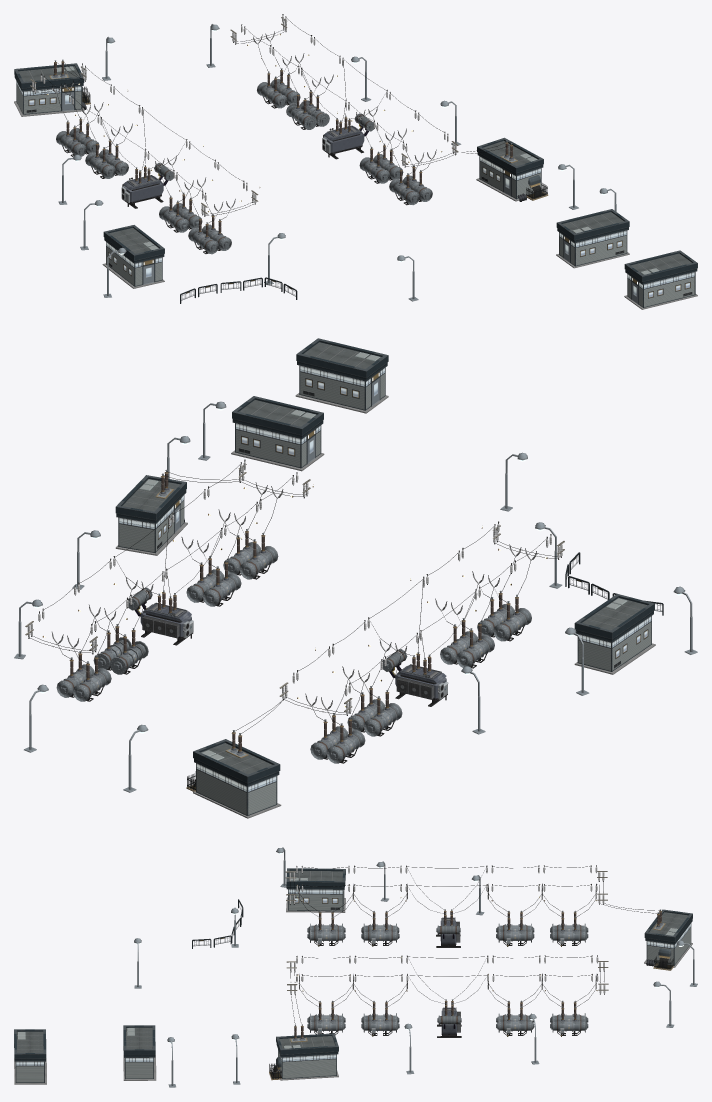
File: t1_b_substation.glb
3 views of the same model, one above another, from view 1: azimuth 30°, elevation 25°; view 2: azimuth 150°, elevation 25°; view 3: azimuth 270°, elevation 25° (orthographic). The views are drawn at different scales.
Visible parts, largest first — view 1: nomerge_substation_mesh, um_t1_b_substation_model_t1_b_substation_modelShape, nomerge_substation_mesh1; view 2: nomerge_substation_mesh, um_t1_b_substation_model_t1_b_substation_modelShape, nomerge_substation_mesh1; view 3: nomerge_substation_mesh, um_t1_b_substation_model_t1_b_substation_modelShape, nomerge_substation_mesh1.
Part boxes in pixels (left/top/right/bottom): nomerge_substation_mesh: left=14, top=34, right=697, bottom=309; um_t1_b_substation_model_t1_b_substation_modelShape: left=30, top=14, right=510, bottom=254; nomerge_substation_mesh1: left=102, top=24, right=616, bottom=301; nomerge_substation_mesh: left=42, top=338, right=663, bottom=818; um_t1_b_substation_model_t1_b_substation_modelShape: left=25, top=459, right=564, bottom=763; nomerge_substation_mesh1: left=14, top=401, right=562, bottom=792; nomerge_substation_mesh: left=14, top=868, right=692, bottom=1084; um_t1_b_substation_model_t1_b_substation_modelShape: left=285, top=865, right=659, bottom=1037; nomerge_substation_mesh1: left=134, top=907, right=697, bottom=1087.
Size of the model in its own units: 61.45 by 9.52 by 87.27.
Materials: 3 (3 with a texture image).
